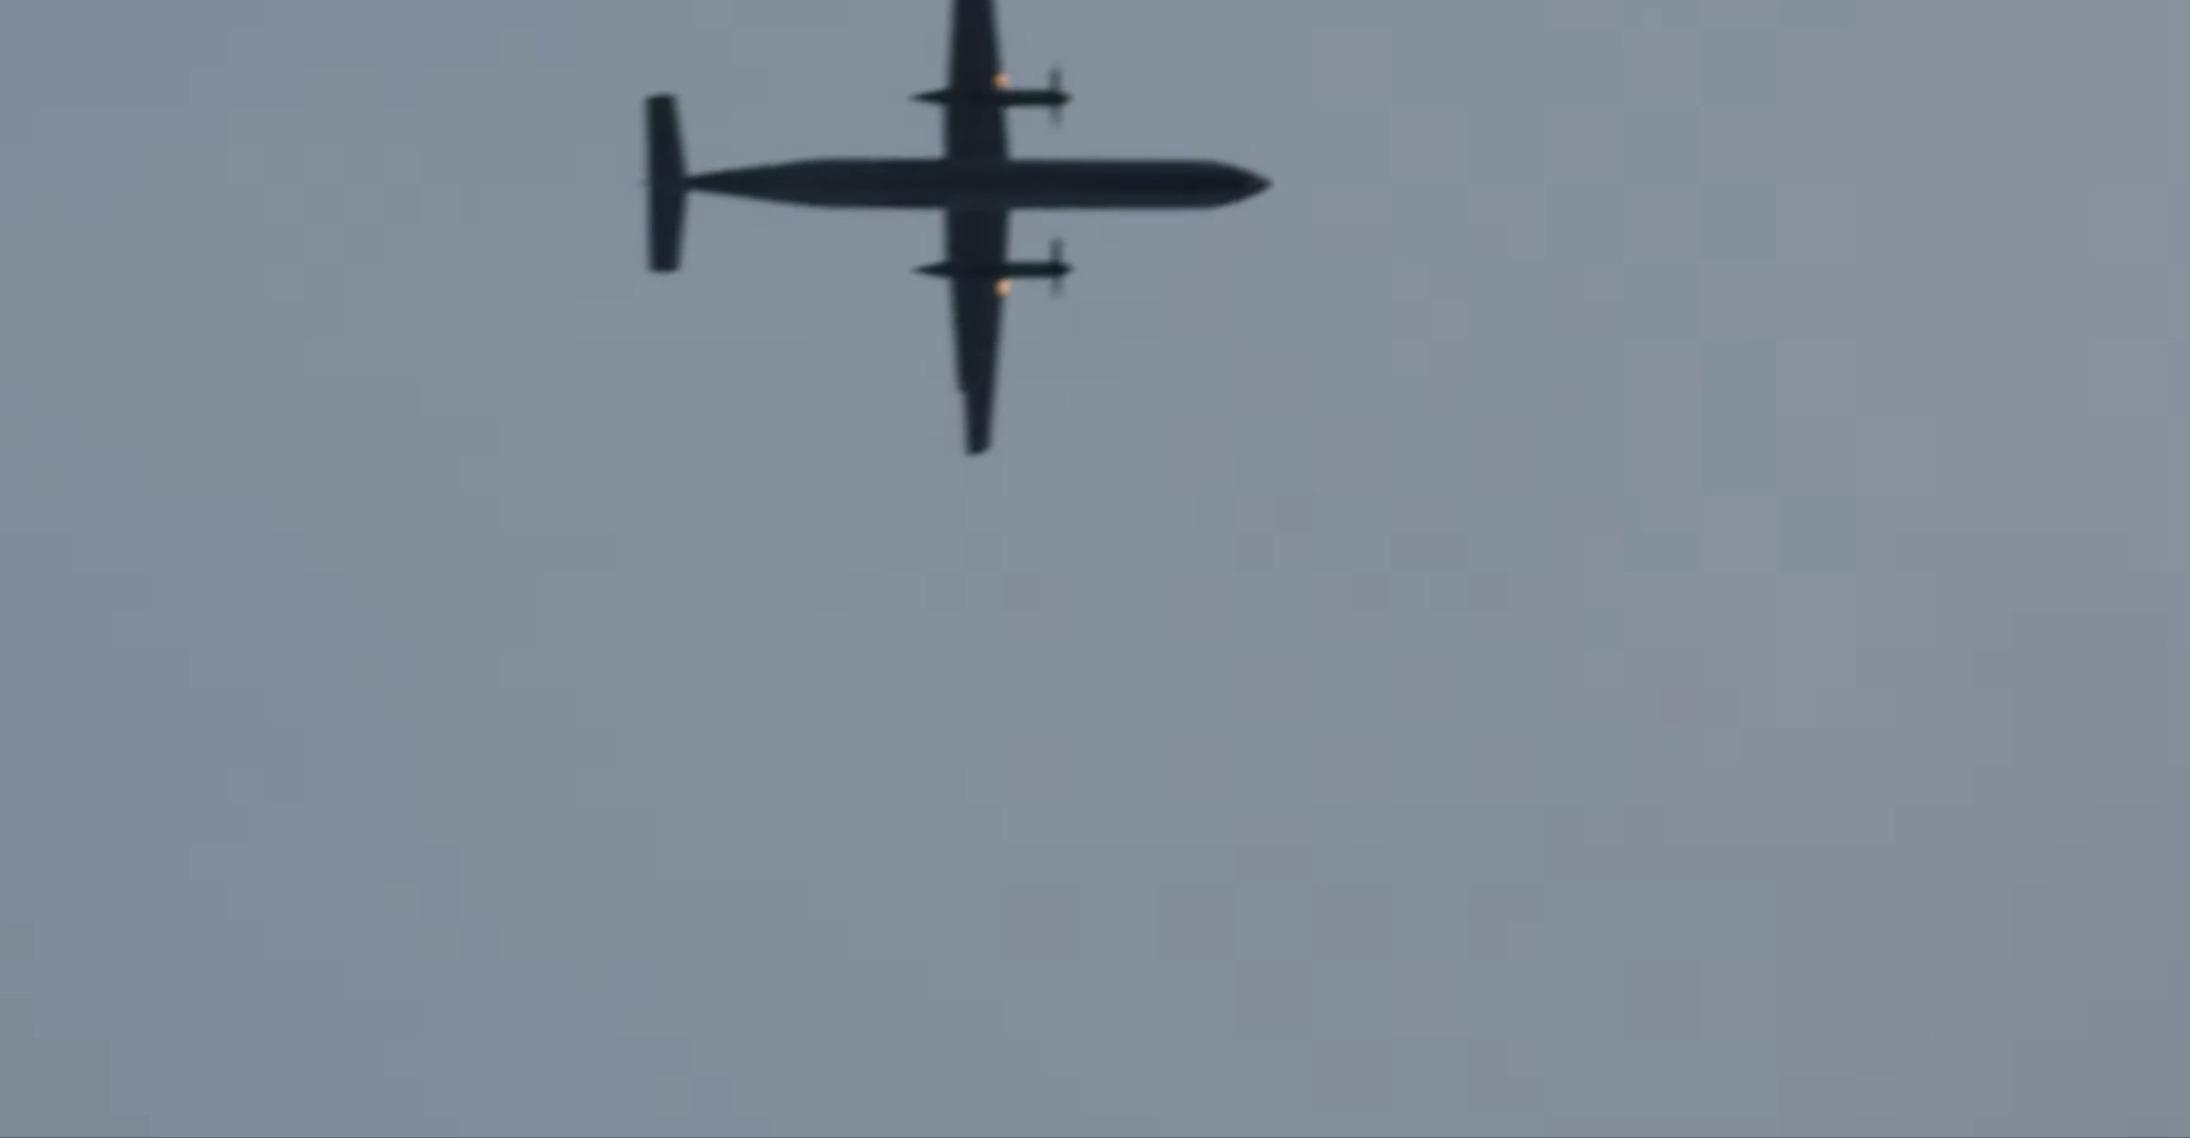Plane: (582, 0, 1293, 637)
